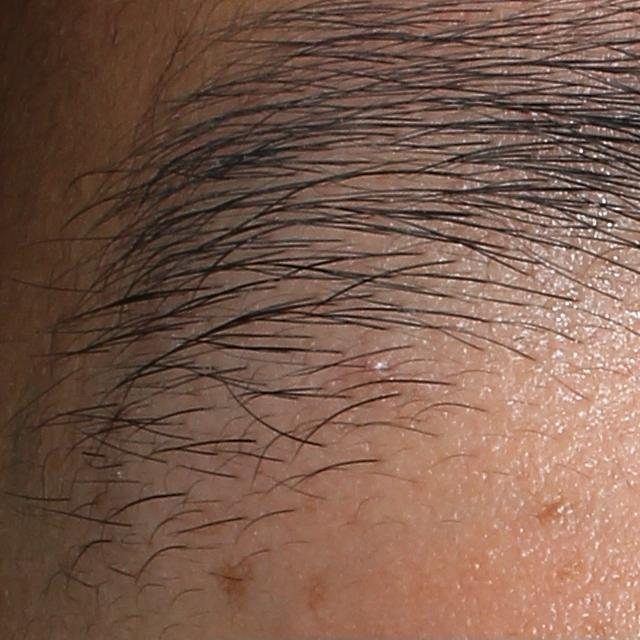comedo: (363, 356, 390, 376)
melasma: (211, 552, 261, 621), (543, 552, 593, 595), (303, 570, 339, 624), (532, 493, 576, 530)
